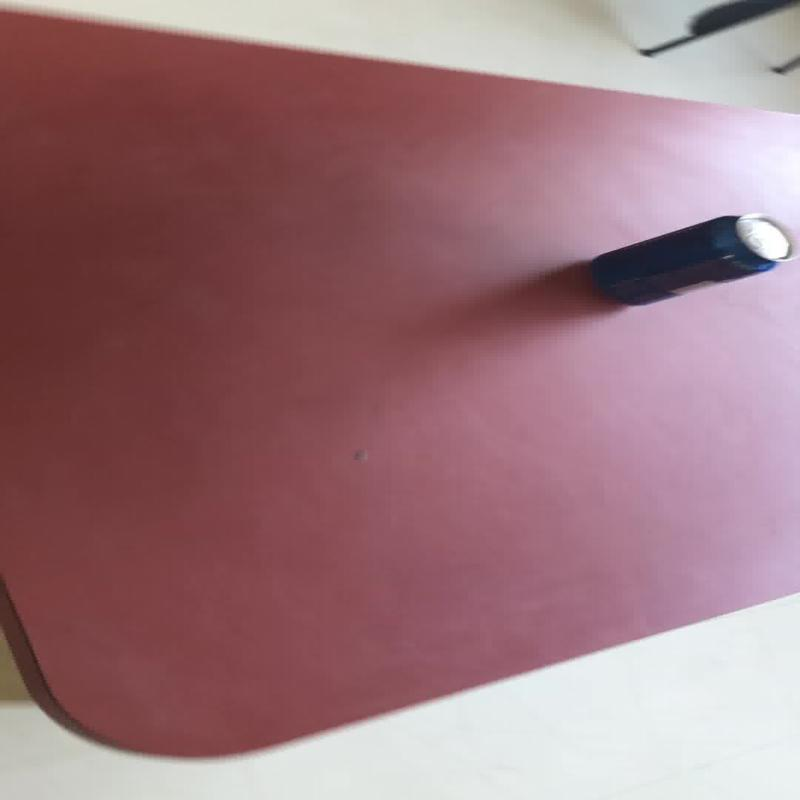tonic: (586, 212, 791, 306)
